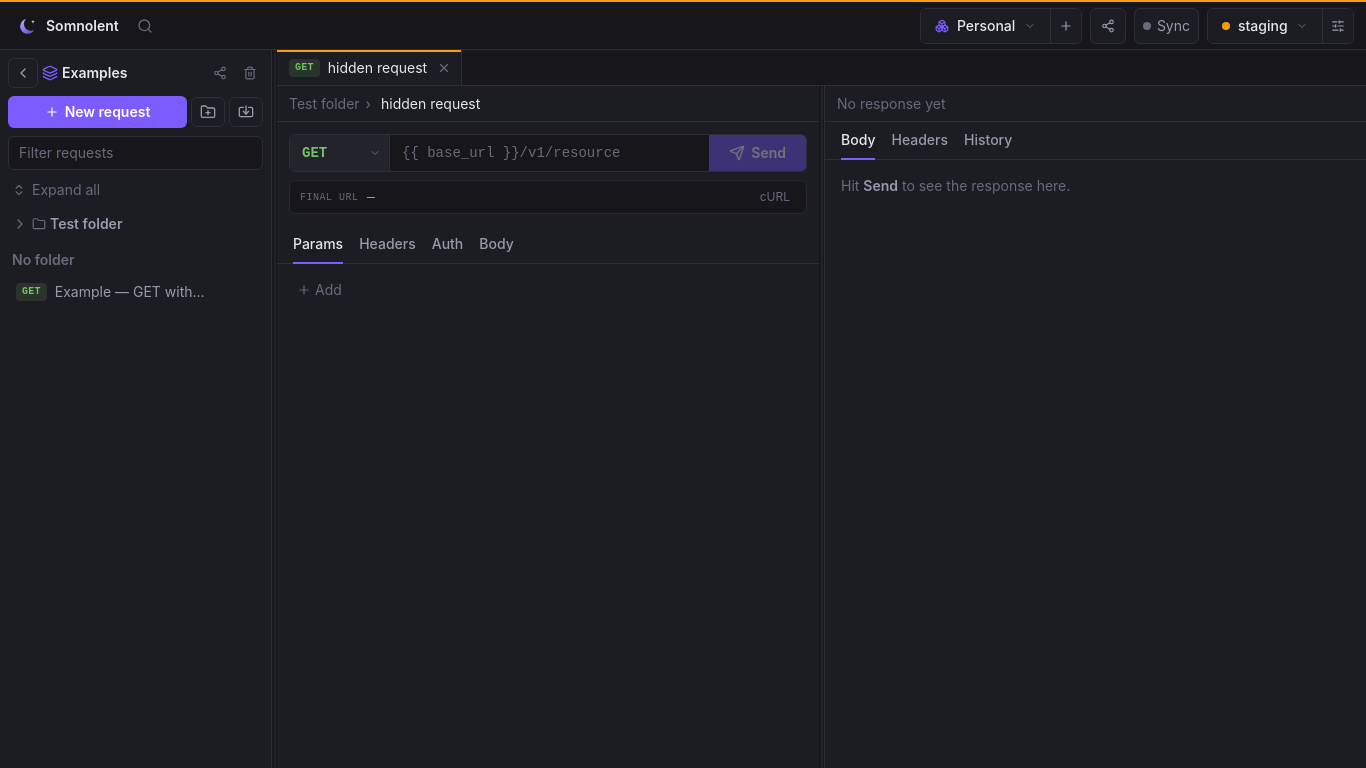
it: folders in the sidebar › clicking expands, and what was open is recorded to survive a reload
Click the text "Test folder" below "Examples".
click(86, 224)  # box top-left (50, 215), bottom-right (122, 232)
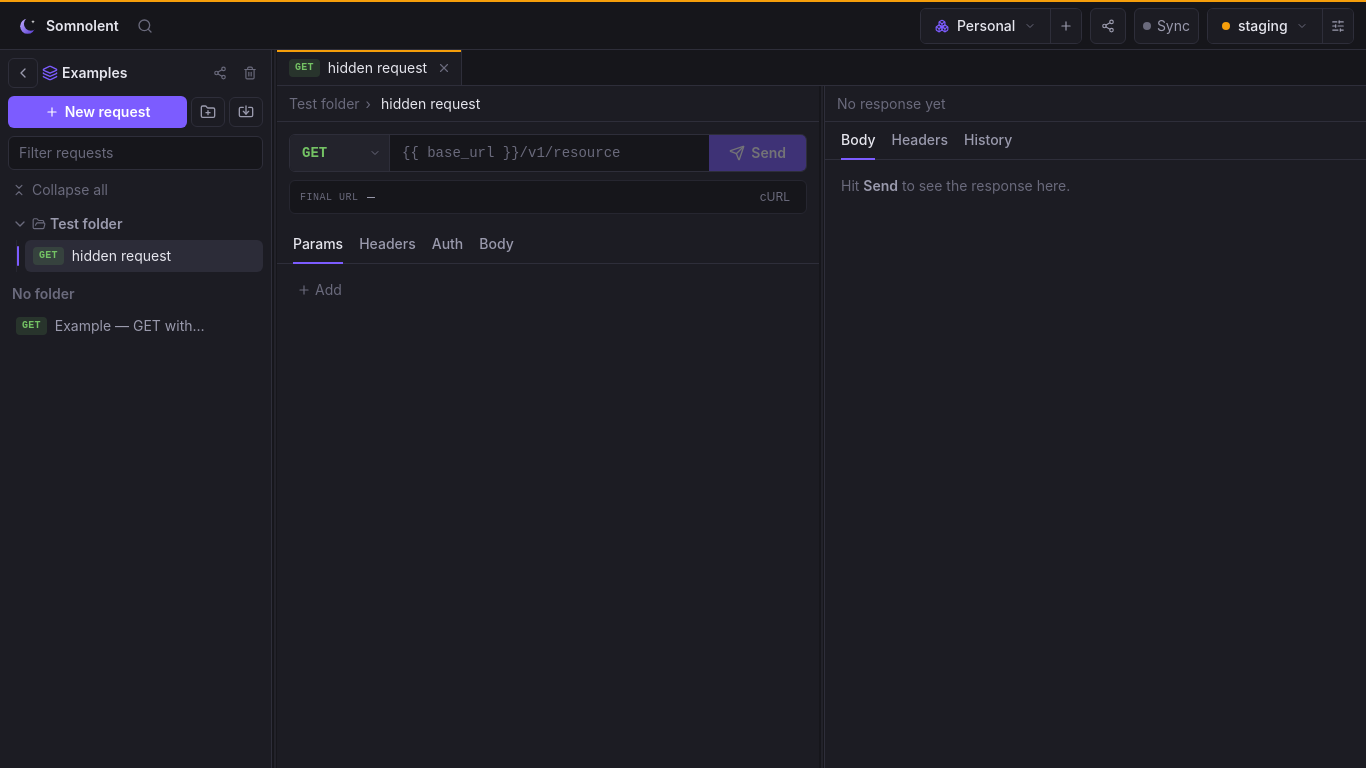
Now the text "hidden request" below "Examples" is shown, box top-left (72, 247), bottom-right (171, 264)
